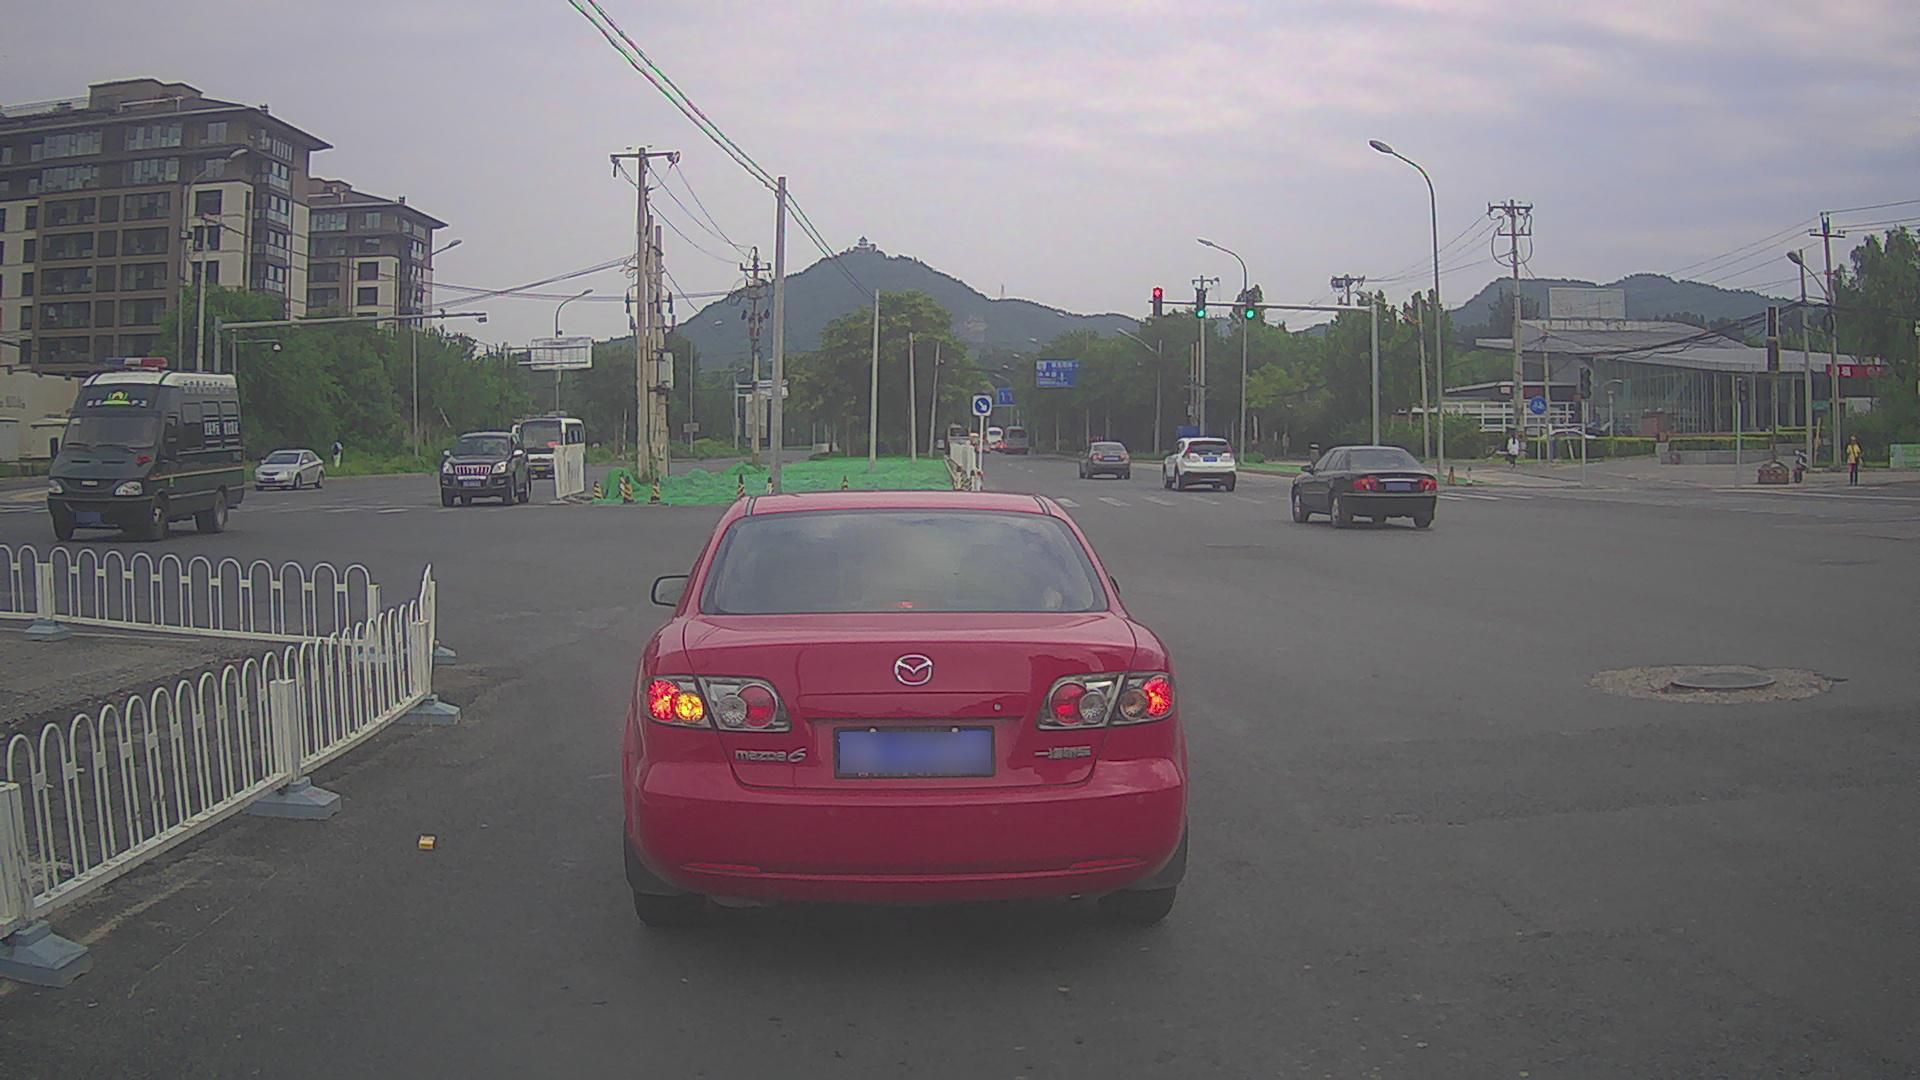bus: (511, 413, 586, 481), (1000, 425, 1029, 455), (985, 426, 1004, 448)
car: (622, 489, 1187, 931), (1291, 445, 1437, 529), (439, 431, 531, 507), (1162, 436, 1237, 491), (253, 449, 325, 490), (1078, 441, 1130, 479)
ignore: (936, 424, 1003, 452), (1540, 426, 1610, 438), (1793, 449, 1809, 483)
pedestrian: (1846, 434, 1861, 487), (1505, 431, 1519, 472), (331, 438, 343, 470)
van: (46, 356, 244, 541)
